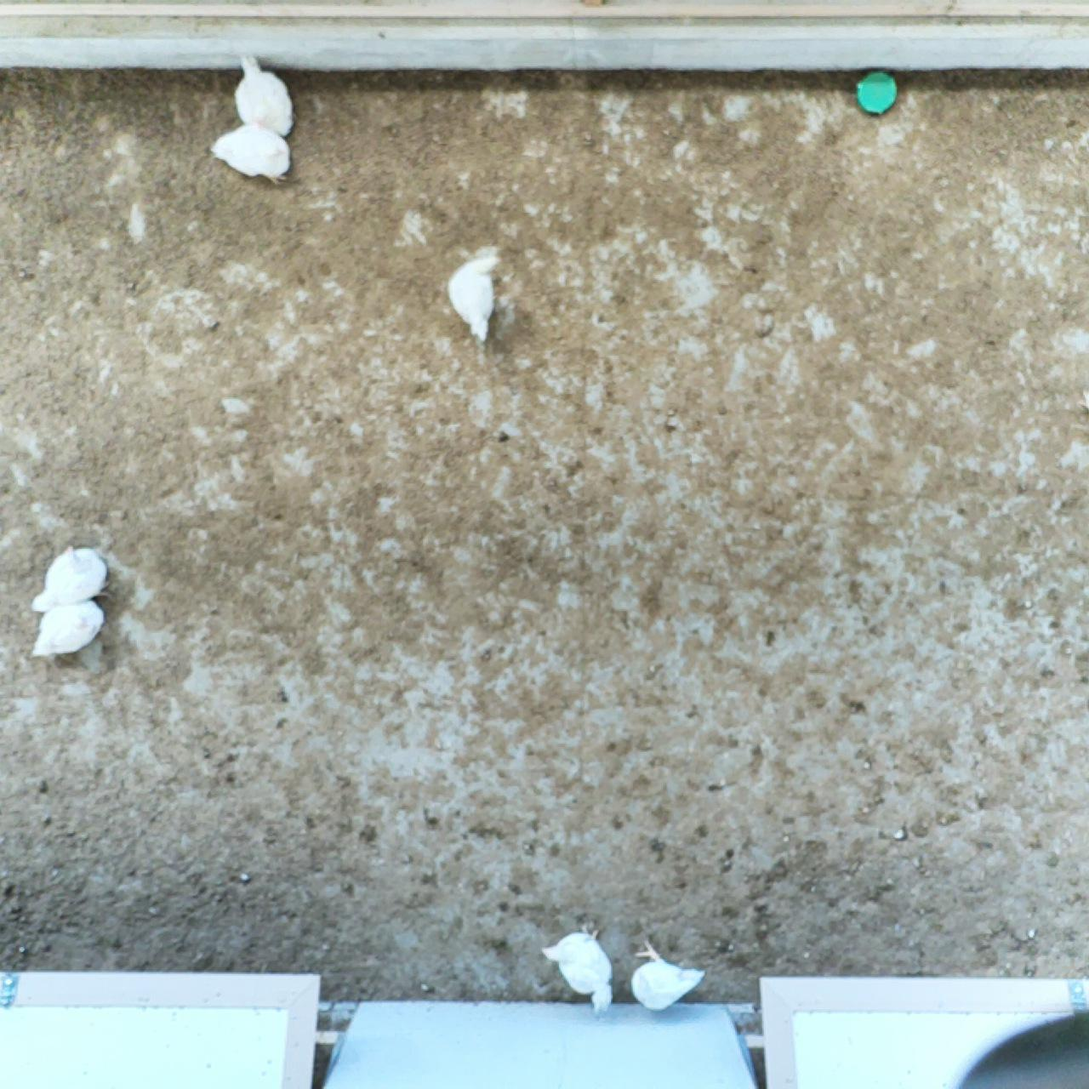chicken: (537, 922, 617, 1020), (441, 239, 509, 344), (30, 541, 118, 619), (207, 115, 293, 190), (627, 936, 707, 1016), (229, 49, 296, 144), (27, 591, 107, 663)
